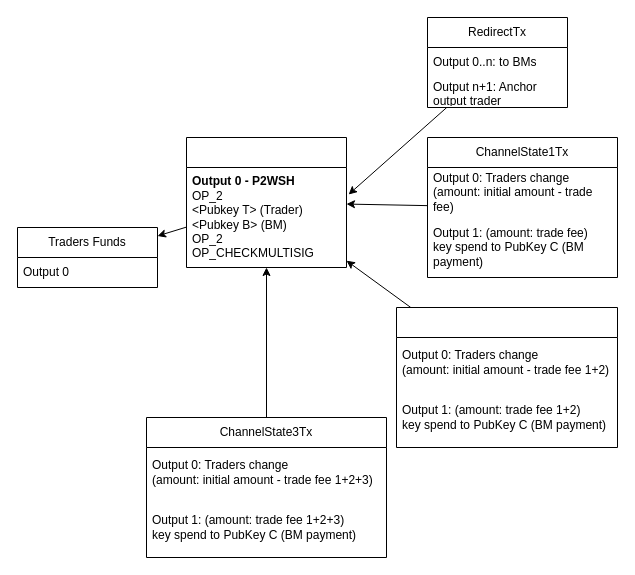
This 635x575 diagram has some shape labels left out. The shapes that lost their labels are listed below. From the top down, each one's box as (x1, y1, x2, y2) in pixels, then its label:
(186, 136, 346, 268): ChannelTx
(396, 306, 618, 448): ChannelState2Tx
